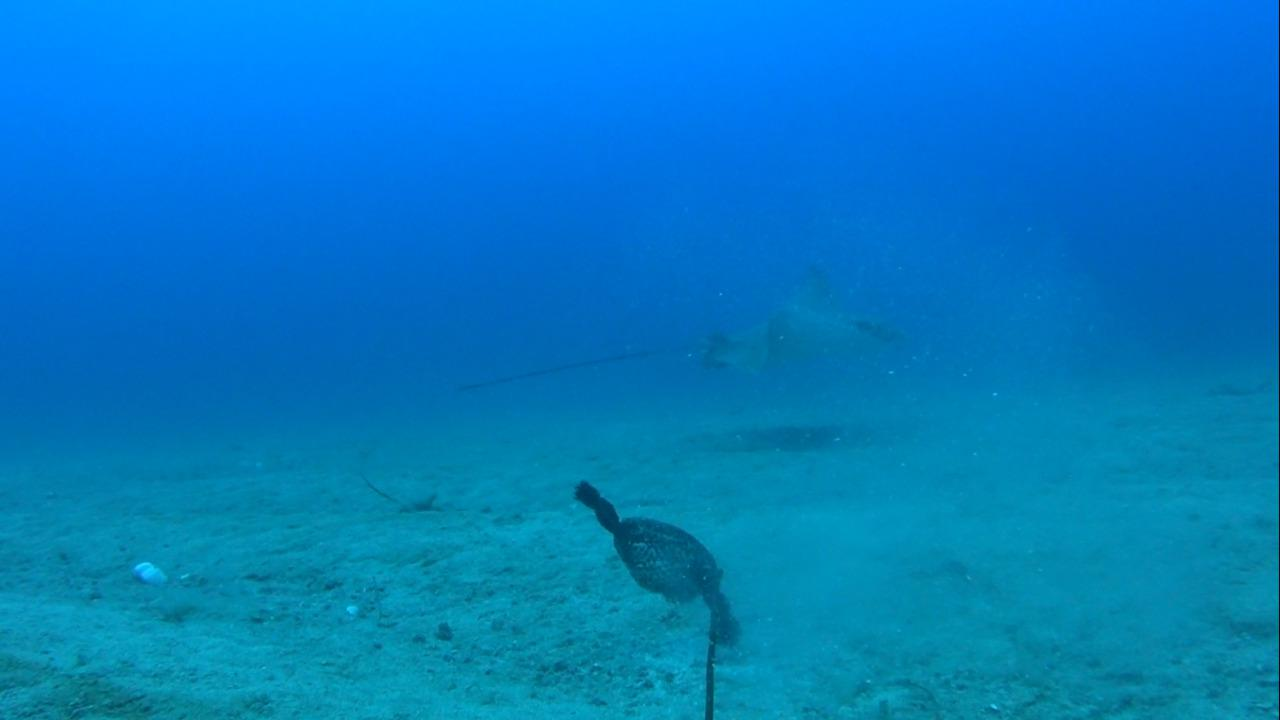myliobatis: (442, 253, 916, 414)
